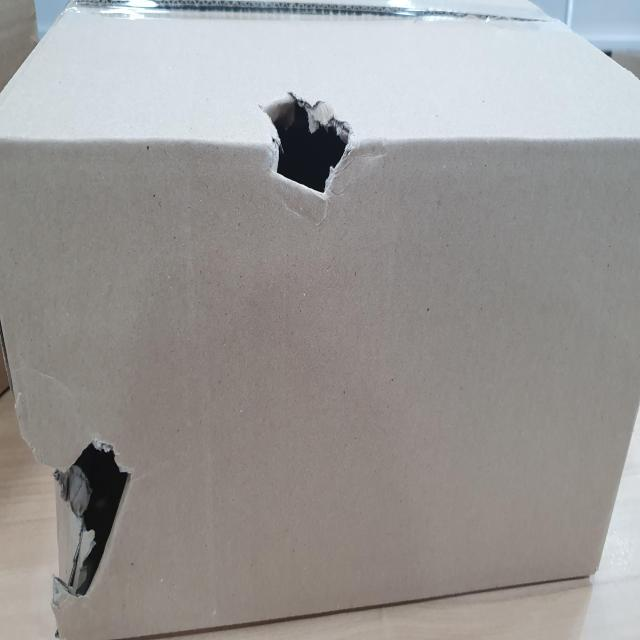damaged: (45, 418, 139, 592), (266, 93, 362, 201)
